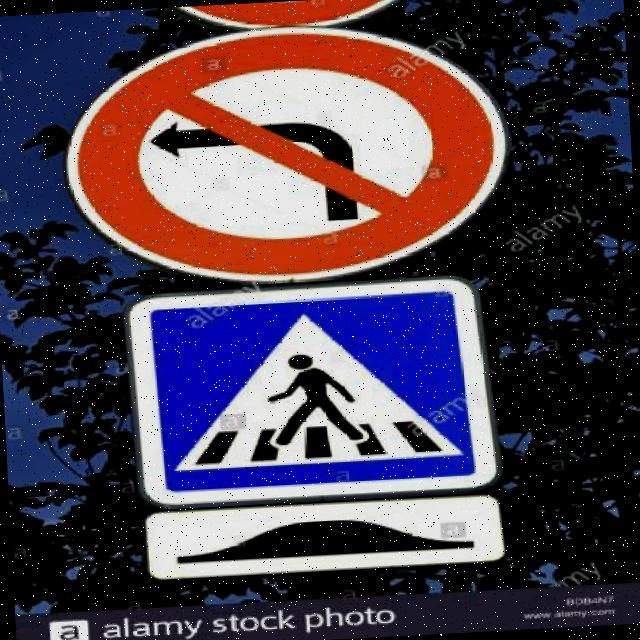Przejscie dla pieszych: (126, 280, 500, 514)
